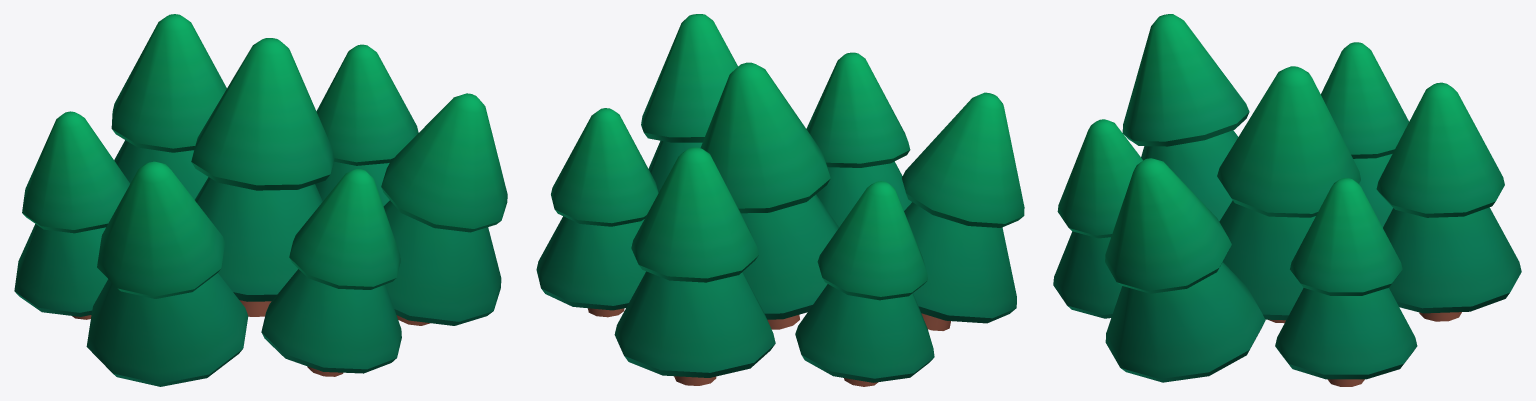
Rendered from trees-b-large.glb.
The picture shows the model from 3 angles, left to right: view 1: azimuth 30°, elevation 25°; view 2: azimuth 150°, elevation 25°; view 3: azimuth 270°, elevation 25°; orthographic projection. The views are drawn at different scales.
Parts seen in each view (by area): view 1: trees_B_large; view 2: trees_B_large; view 3: trees_B_large.
Part boxes in pixels (bbox=[...]): trees_B_large: bbox=[14, 14, 507, 386]; trees_B_large: bbox=[536, 14, 1024, 386]; trees_B_large: bbox=[1053, 14, 1521, 386].
Size of the model in its own units: 1.85 by 1.17 by 1.93.
1 material, 1 textured.
